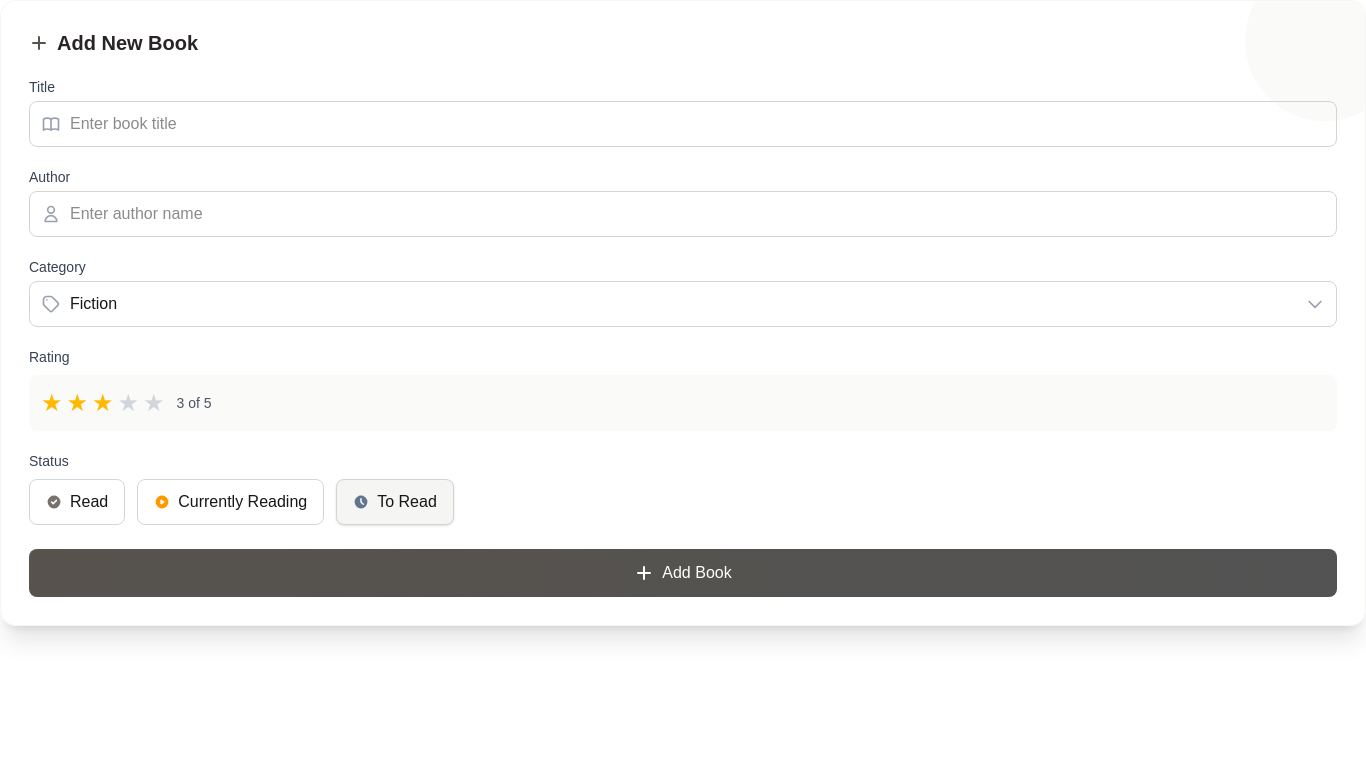
Test: BookForm Component › updates rating when stars are clicked
# Click on the 5th star
Click the 5th button "★" at (154, 403), box top-left (143, 387), bottom-right (165, 419)
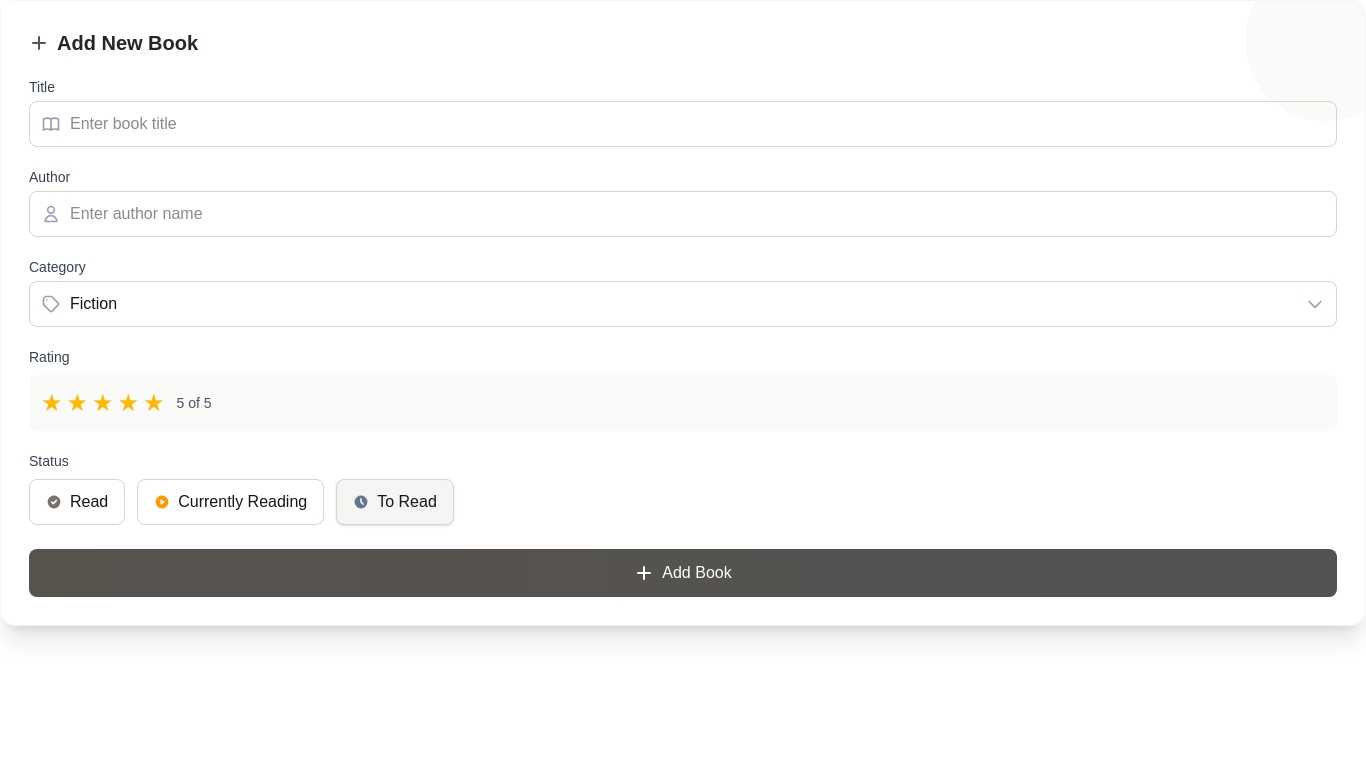
Expected: the text "5 of 5" is shown, top-left (177, 393), bottom-right (212, 413)
